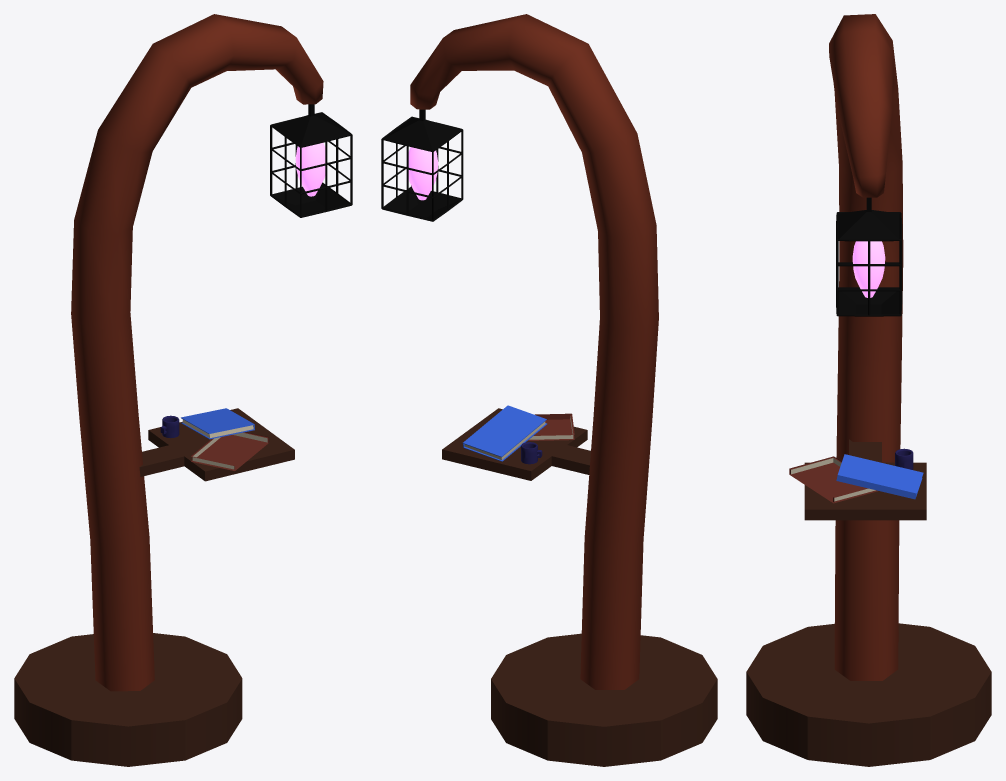
Rendered from lamp4 1.fbx.
3 renders of one model, left to right at view 1: azimuth 30°, elevation 25°; view 2: azimuth 150°, elevation 25°; view 3: azimuth 270°, elevation 25°, orthographic. The views are drawn at different scales.
Parts seen in each view (by area): view 1: BezierCurve, Cylinder.002, Cube.007, Cube.005, Cube.009, Cube.010, Cube.008, Cube.011; view 2: BezierCurve, Cylinder.002, Cube.007, Cube.005, Cube.010, Cube.008, Cube.009; view 3: BezierCurve, Cylinder.002, Cube.007, Cube.005, Cube.010, Cube.009, Cube.008, Cube.011.
Boxes of the visible parts, x1,y1,x2,y2 form: BezierCurve: (71, 14, 323, 691); Cylinder.002: (14, 633, 242, 766); Cube.007: (270, 104, 352, 217); Cube.005: (139, 408, 294, 481); Cube.009: (191, 432, 269, 470); Cube.010: (181, 408, 254, 439); Cube.008: (295, 143, 325, 196); Cube.011: (182, 419, 267, 469); BezierCurve: (410, 14, 658, 689); Cylinder.002: (491, 633, 717, 766); Cube.007: (381, 109, 463, 221); Cube.005: (442, 408, 590, 480); Cube.010: (462, 405, 547, 461); Cube.008: (408, 147, 438, 200); Cube.009: (528, 413, 574, 440); BezierCurve: (829, 14, 903, 680); Cylinder.002: (746, 623, 991, 766); Cube.007: (836, 197, 902, 316); Cube.005: (804, 439, 926, 520); Cube.010: (836, 454, 923, 499); Cube.009: (789, 456, 877, 503); Cube.008: (852, 241, 885, 297); Cube.011: (791, 458, 875, 501).
Size of the model in its own units: 120 by 253 by 76.85.
